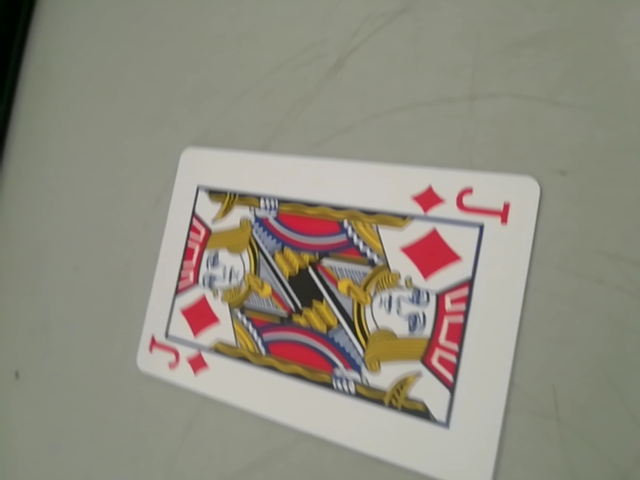fk j: (409, 180, 518, 223), (149, 332, 214, 383)
